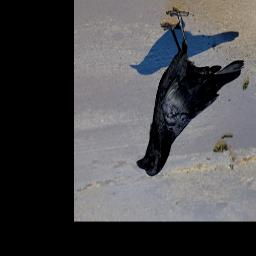Crow: (136, 7, 244, 177)
